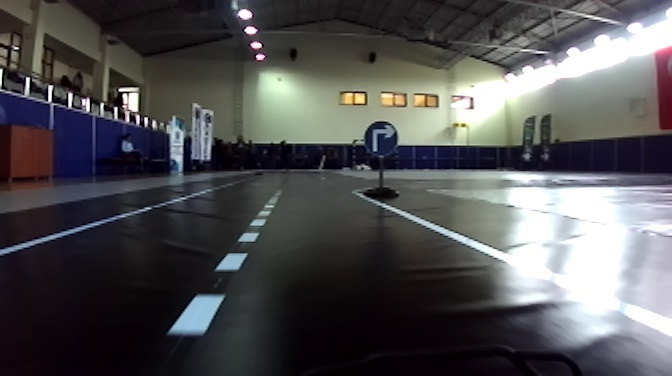saga_donus: (361, 119, 398, 154)
